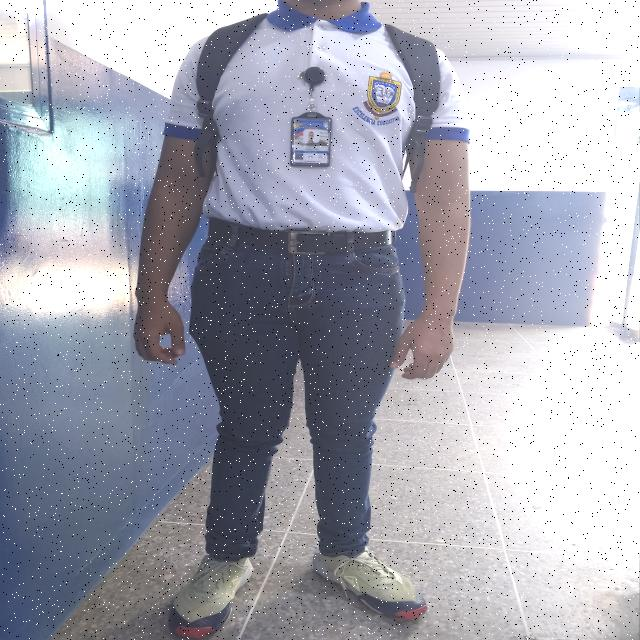carnet: (291, 117, 329, 168)
pantalon_oscuro: (188, 238, 408, 562)
uniforme_superior: (162, 1, 466, 234)
